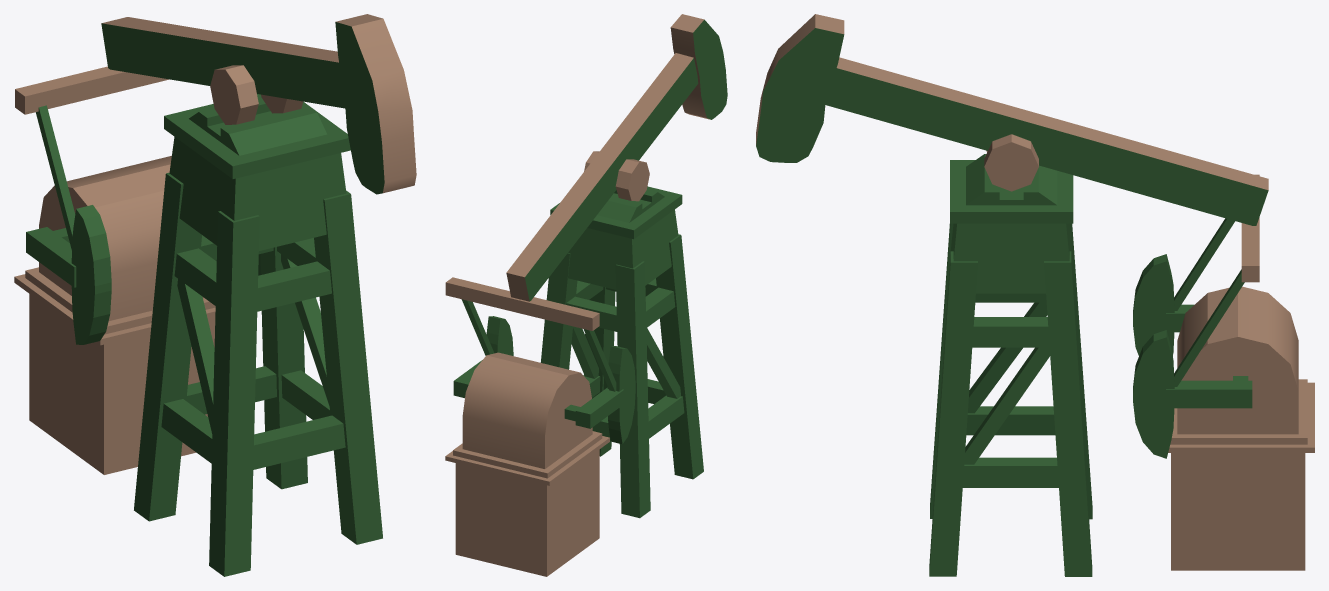
The model's file is OilPump.fbx.
The picture shows the model from 3 angles, left to right: view 1: azimuth 30°, elevation 25°; view 2: azimuth 150°, elevation 25°; view 3: azimuth 270°, elevation 25°; orthographic projection. The views are drawn at different scales.
Visible parts, largest first — view 1: OilPump; view 2: OilPump; view 3: OilPump.
Boxes of the visible parts, bbox=[...] form: OilPump: bbox=[14, 14, 416, 576]; OilPump: bbox=[445, 14, 727, 576]; OilPump: bbox=[756, 14, 1314, 576].
Size of the model in its own units: 7.92 by 21.05 by 20.45.
